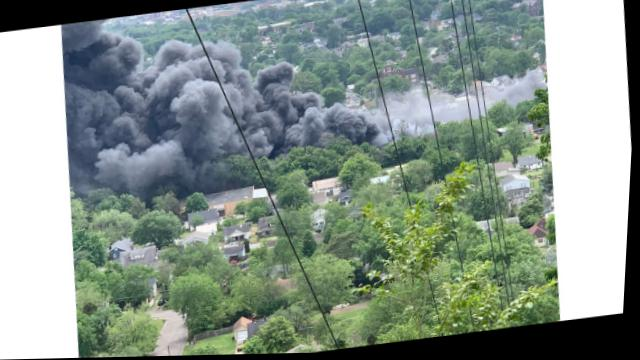smoke: (154, 33, 277, 168), (51, 19, 125, 200), (101, 28, 173, 195), (454, 66, 547, 124), (380, 86, 459, 143), (261, 65, 296, 152), (289, 89, 335, 148), (329, 105, 376, 145)
